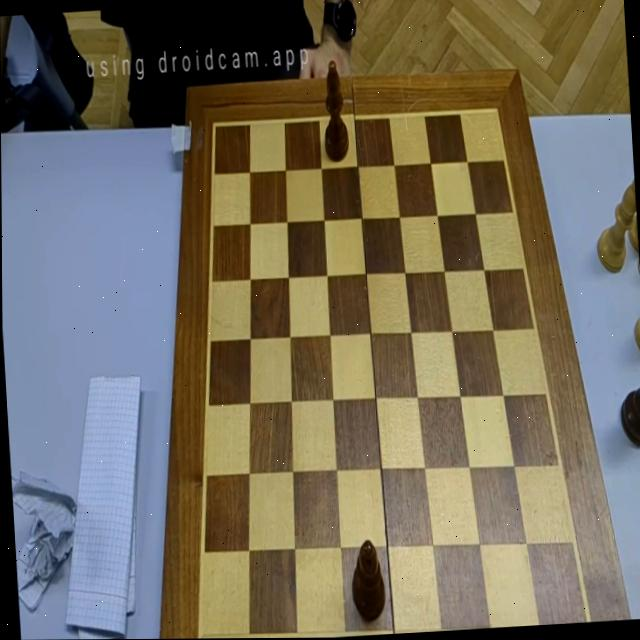black_bishop: (349, 540, 386, 623), (320, 60, 349, 163)
